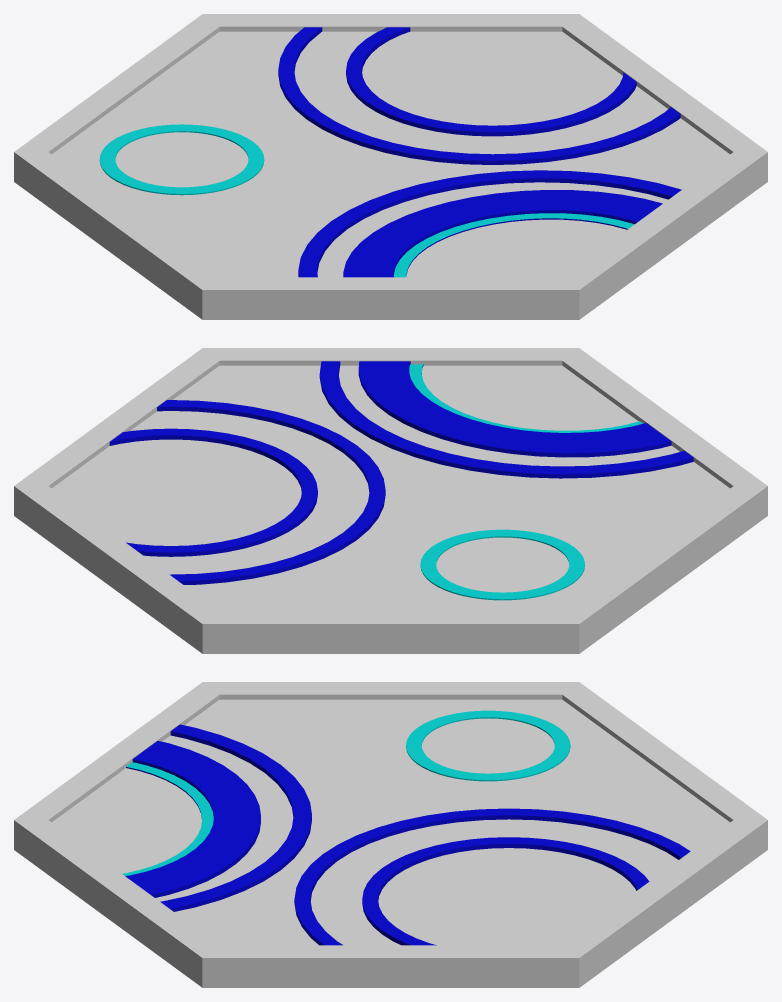
File: placas_civi6.fbx
The picture shows the model from 3 angles, top to bottom: view 1: azimuth 30°, elevation 25°; view 2: azimuth 150°, elevation 25°; view 3: azimuth 270°, elevation 25°; orthographic projection.
Parts seen in each view (by area): view 1: placa_base_low, placa6_low; view 2: placa_base_low, placa6_low; view 3: placa_base_low, placa6_low.
Part boxes in pixels (x1,y1,x2,y2): placa_base_low: (14, 14, 767, 319); placa6_low: (99, 27, 681, 277); placa_base_low: (14, 348, 767, 653); placa6_low: (109, 361, 693, 600); placa_base_low: (14, 682, 767, 987); placa6_low: (122, 710, 690, 945).
Bounding box in the file's own units: 346 × 17.47 × 400.
